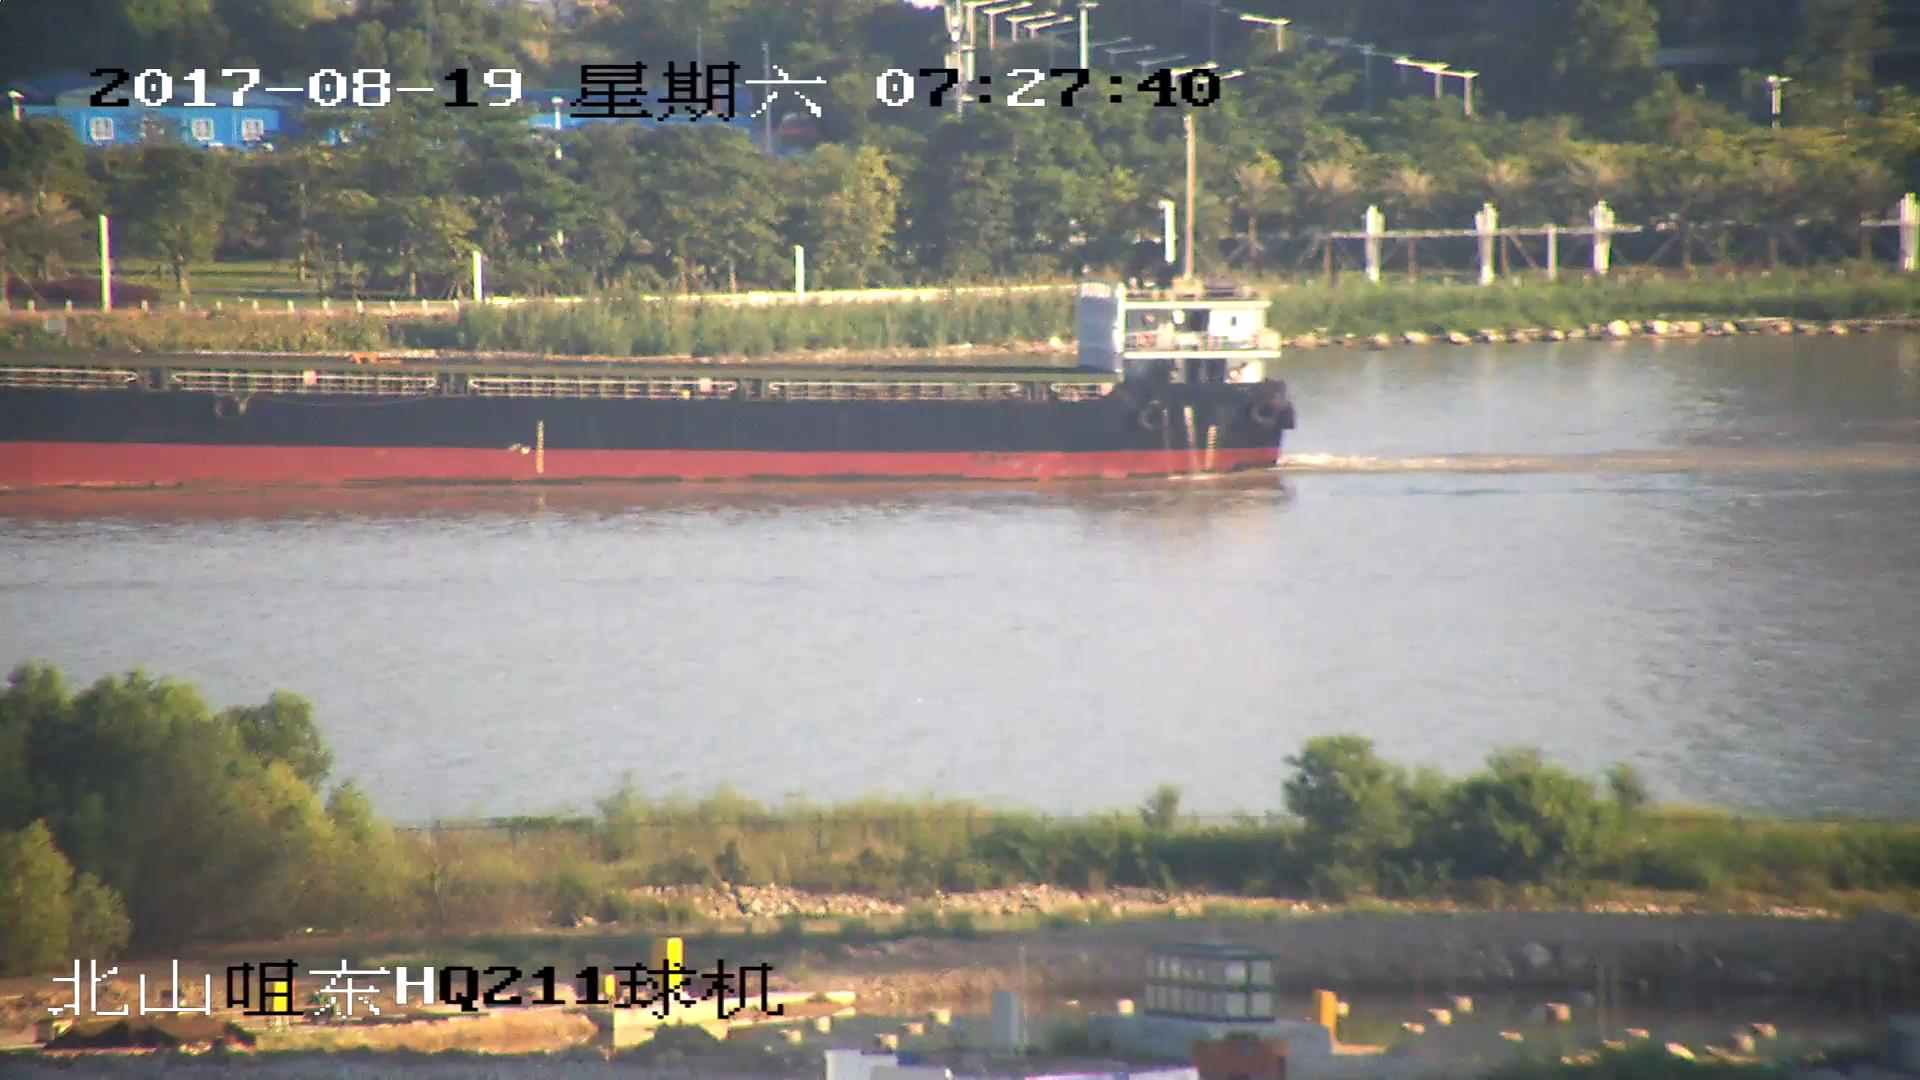general cargo ship: (1, 121, 1309, 490)
